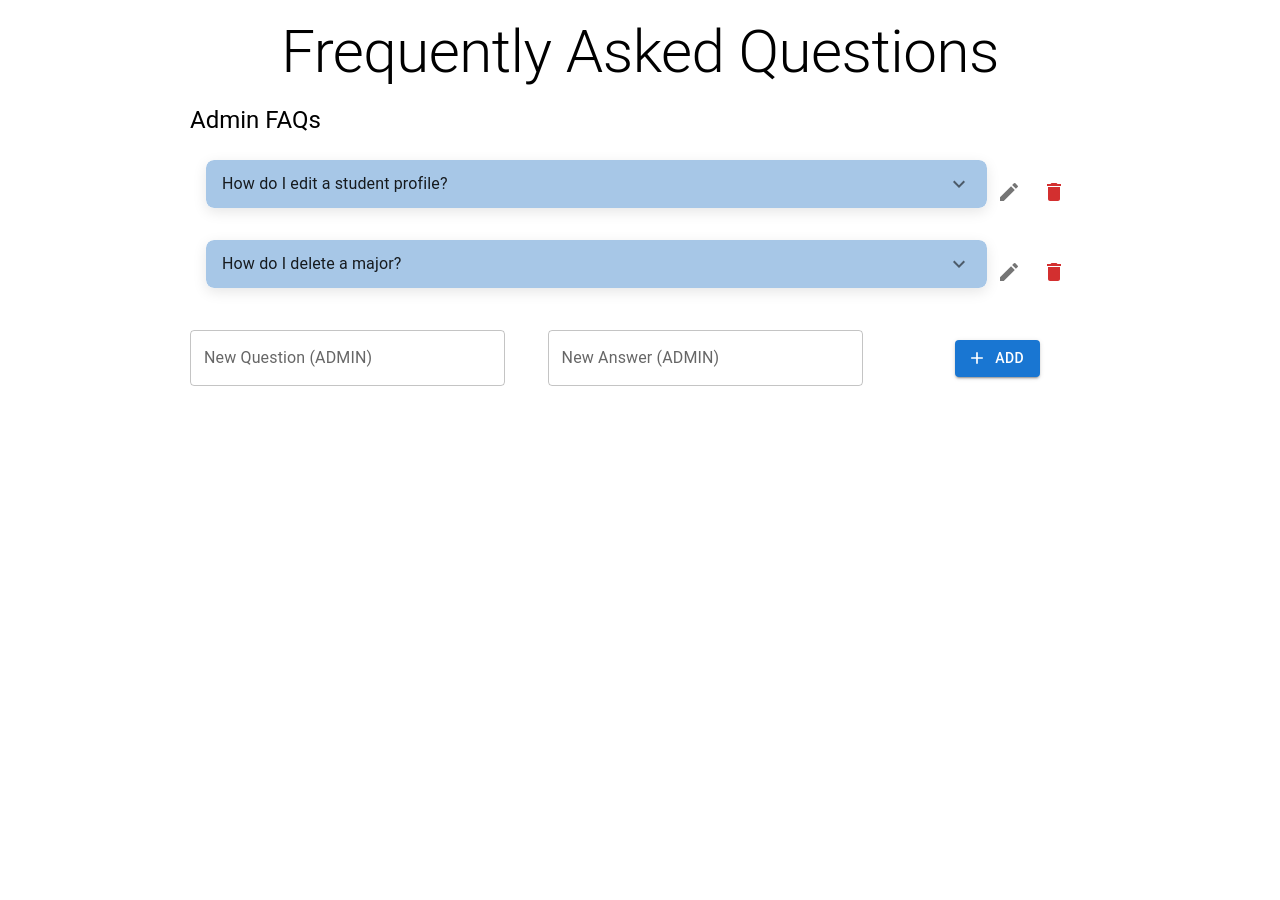
Test case: FAQs › admin functions › deleting › asks for confirmation before deleting
The width and height of the screenshot is (1280, 900).
Click the 1st button with test id "delete-btn": (1054, 192) x1=1034 y1=160 x2=1074 y2=224
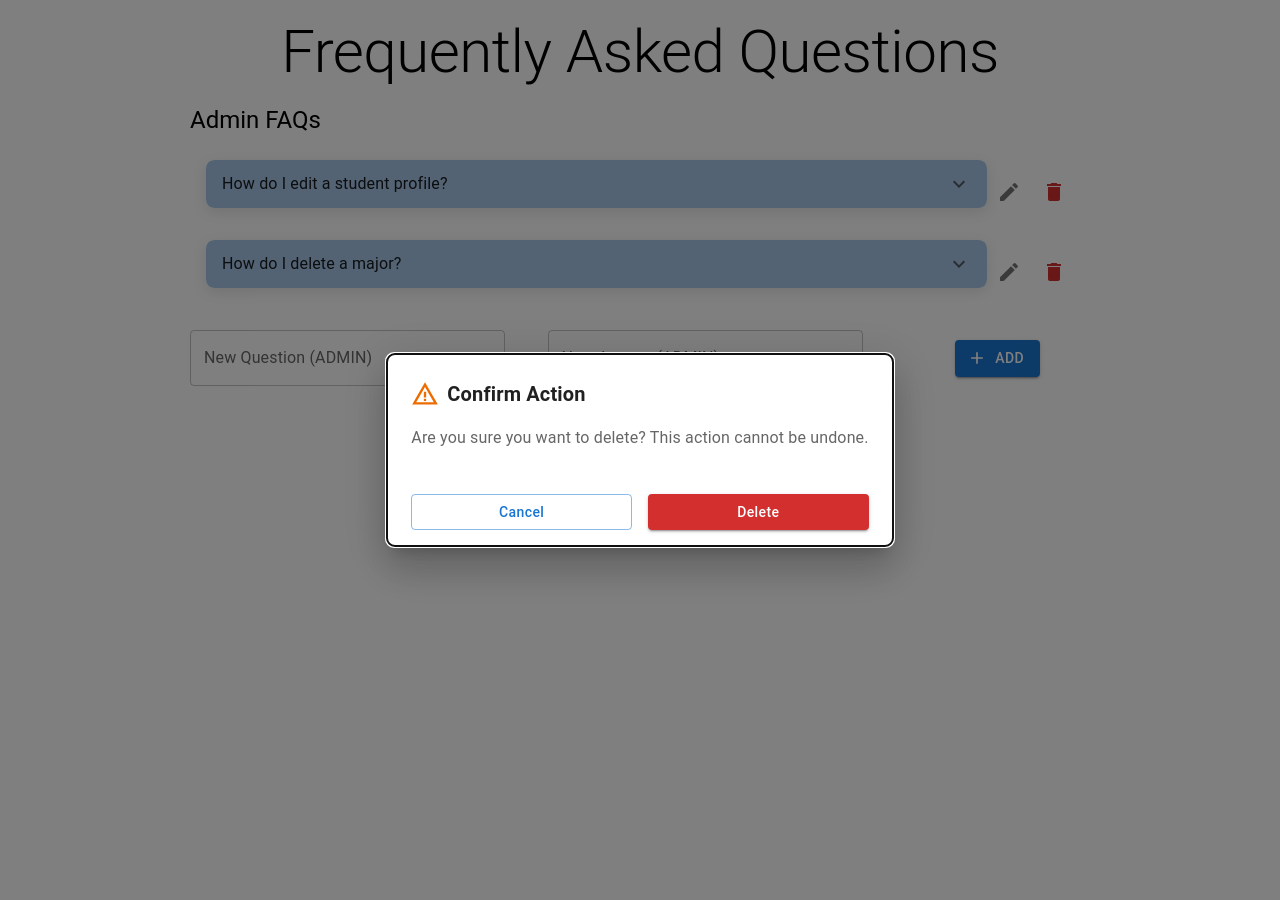
Check: the text "Are you sure you want to delete" is shown, box x1=411 y1=426 x2=869 y2=450
Check: the button with test id "confirm" is shown, box x1=648 y1=494 x2=869 y2=530
